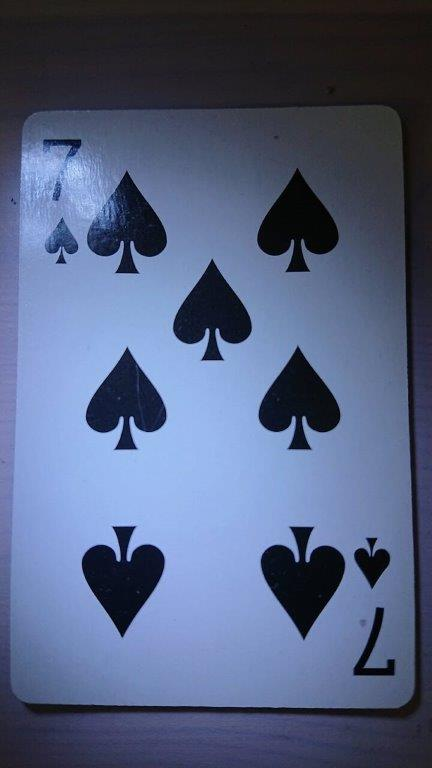7S: (6, 102, 418, 713)
